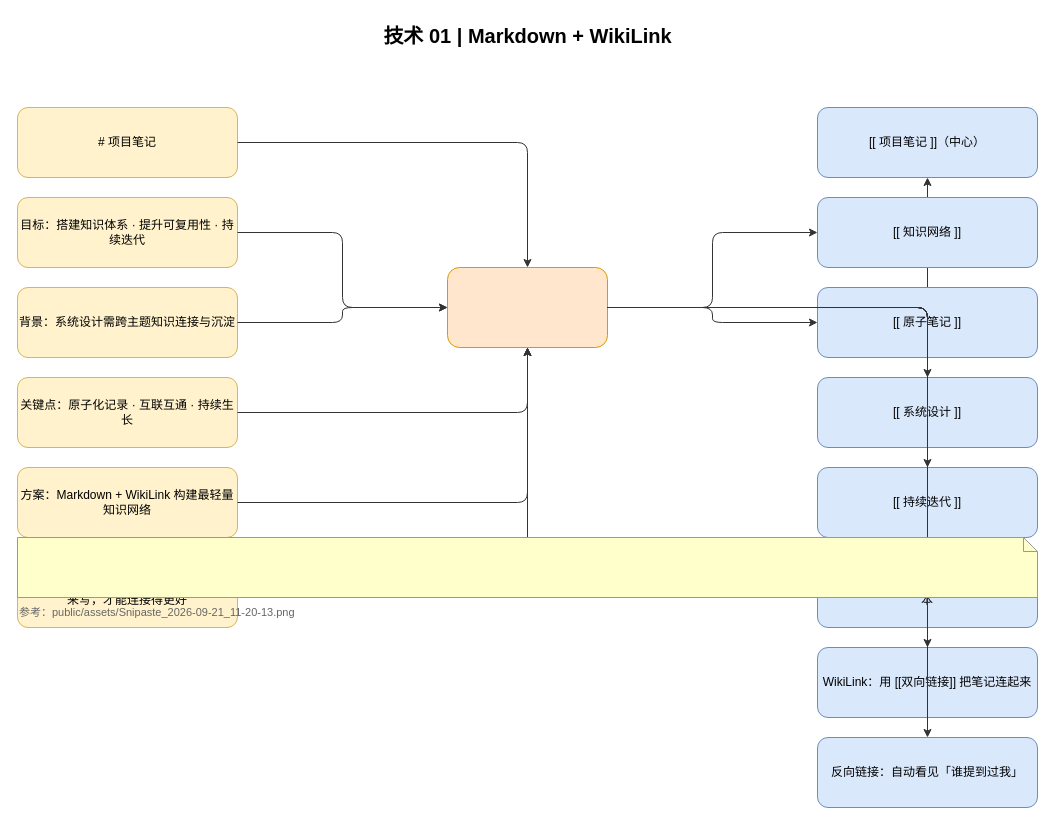
This 1055x825 diagram has some shape labels left out. The centre of each missing label's shape, as x and y in pixels:
"最轻、最基础的人类可维护知识网络" belongs at (527,567).
"连接产生洞察！" belongs at (527,307).
